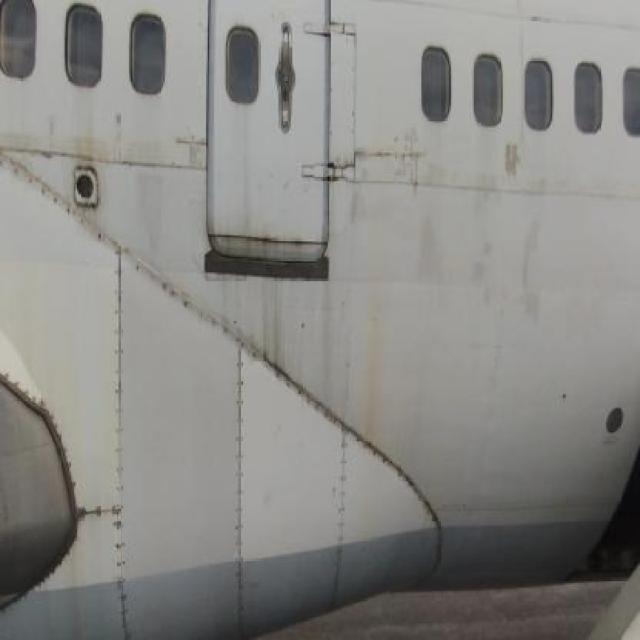Missing-Rivet: (77, 487, 134, 535)
Rust: (358, 235, 400, 456), (258, 238, 293, 379), (64, 94, 119, 168), (214, 222, 320, 250)
Scartch: (418, 176, 552, 322), (355, 134, 430, 188)
